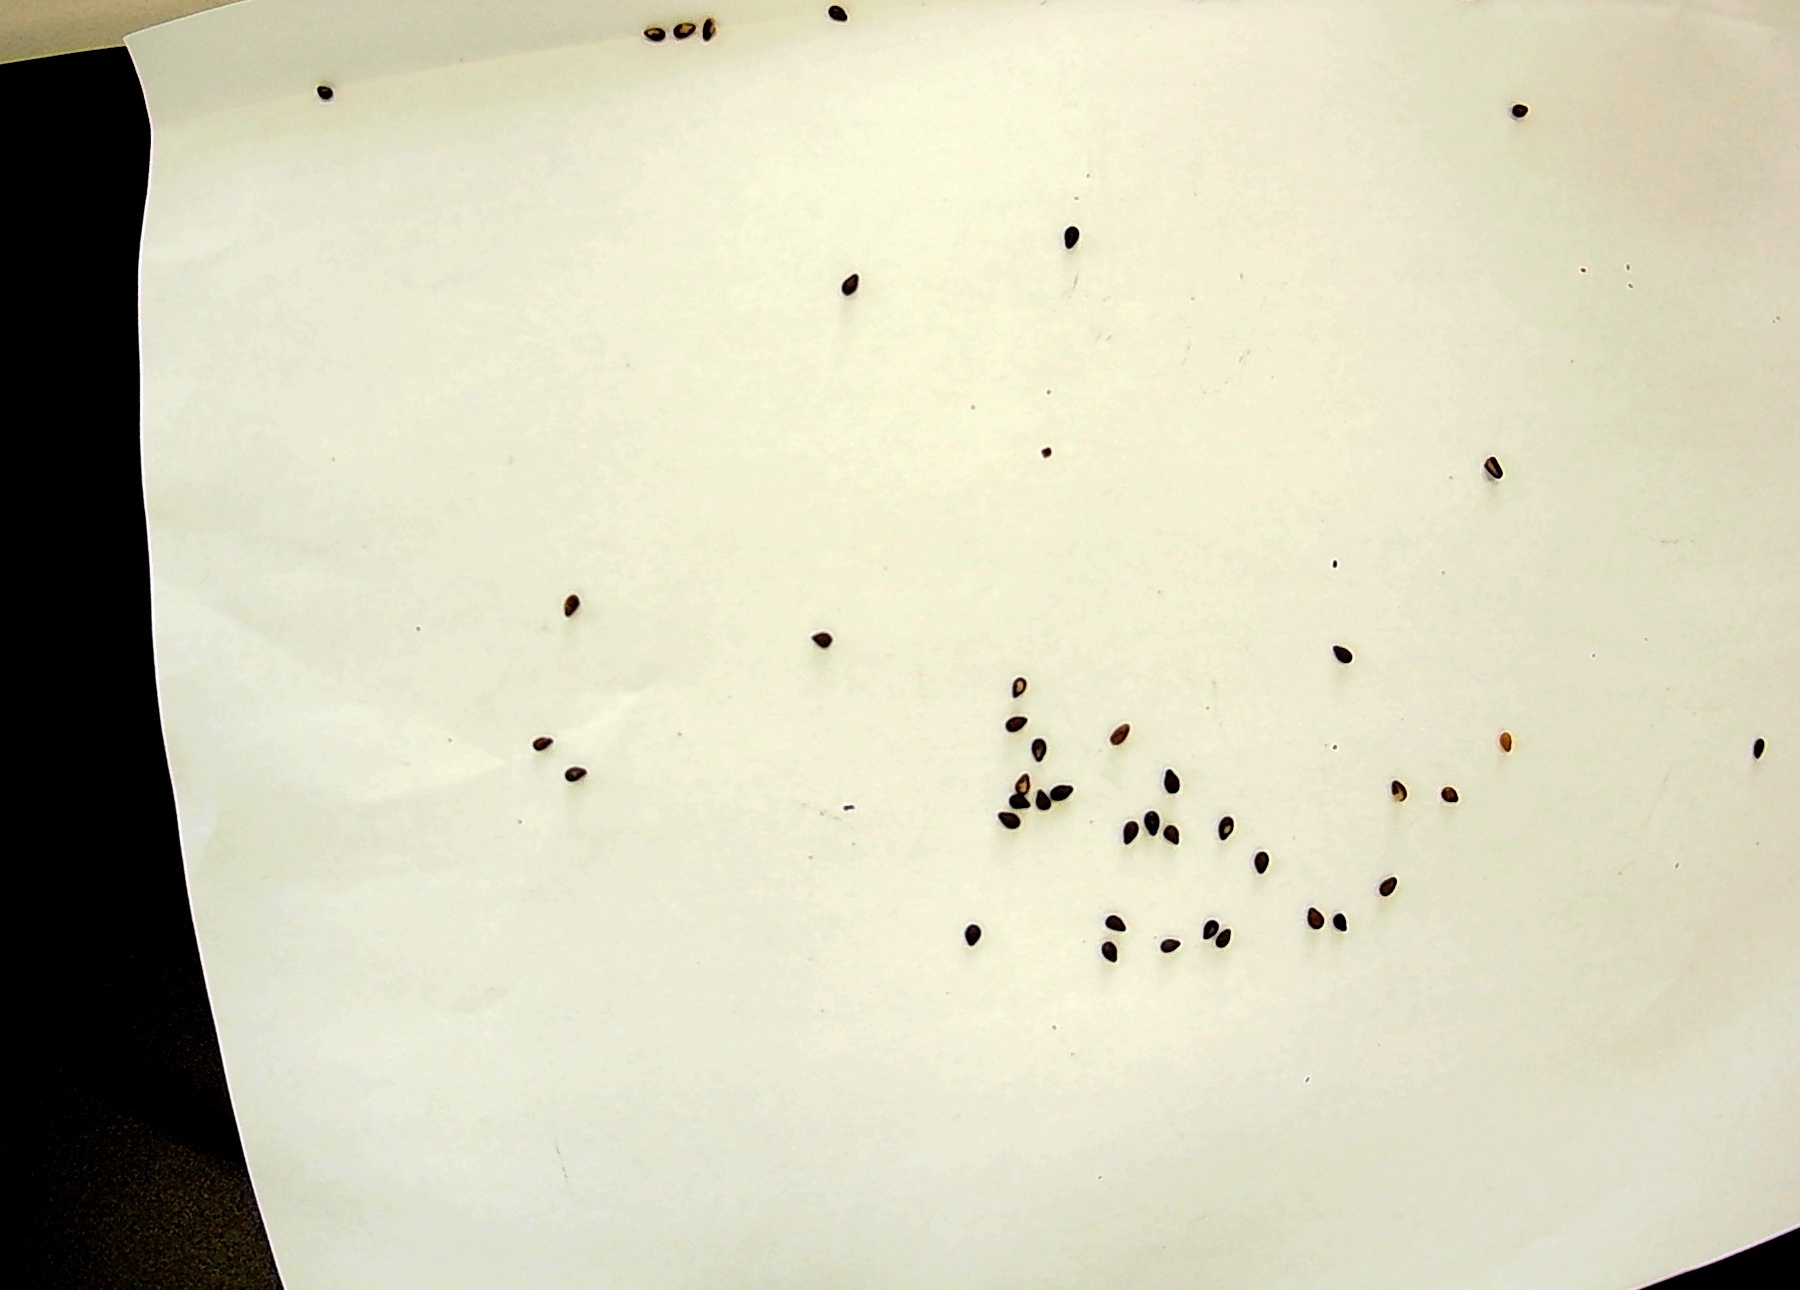sesami: (1042, 778, 1086, 813), (1060, 218, 1102, 253), (820, 3, 862, 38), (822, 269, 864, 304), (1369, 773, 1411, 808), (553, 586, 594, 621), (998, 759, 1040, 794), (980, 806, 1021, 840), (1086, 933, 1127, 967), (1127, 794, 1169, 829), (1734, 732, 1778, 765), (1102, 715, 1146, 748), (1148, 927, 1192, 961), (1469, 450, 1511, 483), (1501, 89, 1543, 123), (700, 18, 742, 52), (666, 18, 707, 52), (632, 20, 674, 53), (299, 74, 340, 107), (1319, 634, 1360, 667), (1482, 720, 1524, 754), (1432, 771, 1473, 804), (1373, 861, 1415, 895), (1328, 907, 1370, 941), (1292, 892, 1334, 926), (1243, 847, 1285, 881), (1207, 814, 1249, 847), (1147, 761, 1189, 794), (996, 665, 1038, 698), (793, 627, 834, 660), (515, 727, 557, 761), (551, 757, 593, 790), (991, 706, 1033, 740), (1019, 733, 1060, 766), (992, 780, 1034, 814), (946, 914, 988, 948), (1101, 905, 1143, 938), (1182, 907, 1224, 941), (1208, 923, 1250, 956), (1158, 820, 1200, 853), (1104, 820, 1146, 853), (1024, 789, 1066, 822)
